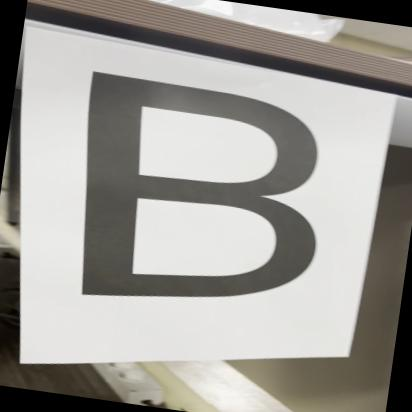seat: (38, 53, 372, 336)
